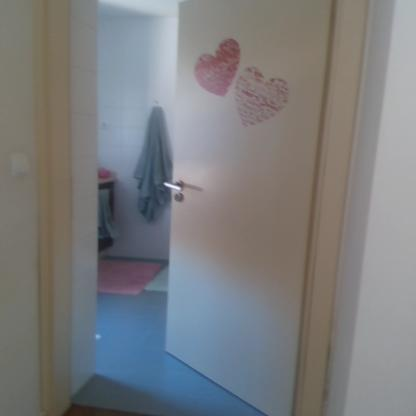semi: (36, 0, 362, 416)
